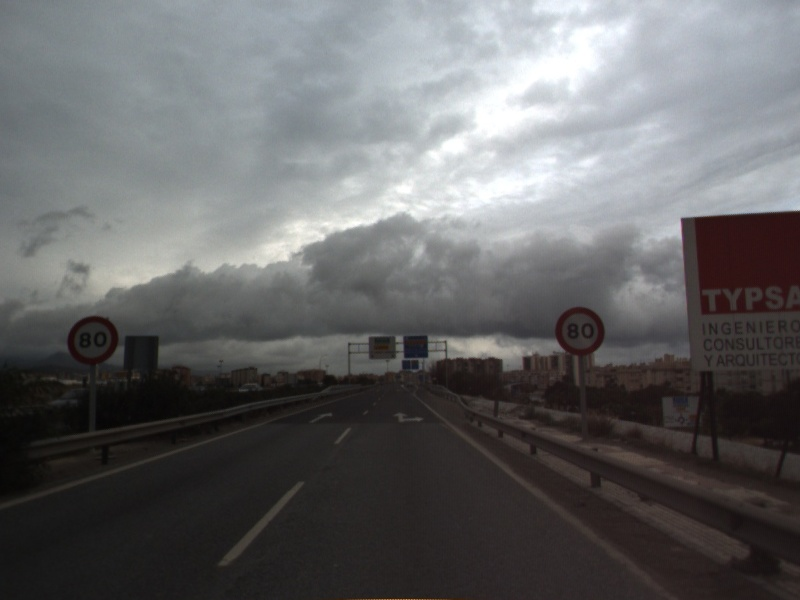STRAIGHT: (307, 410, 335, 425)
STRAIGHT_RIGHT: (390, 410, 427, 425)
